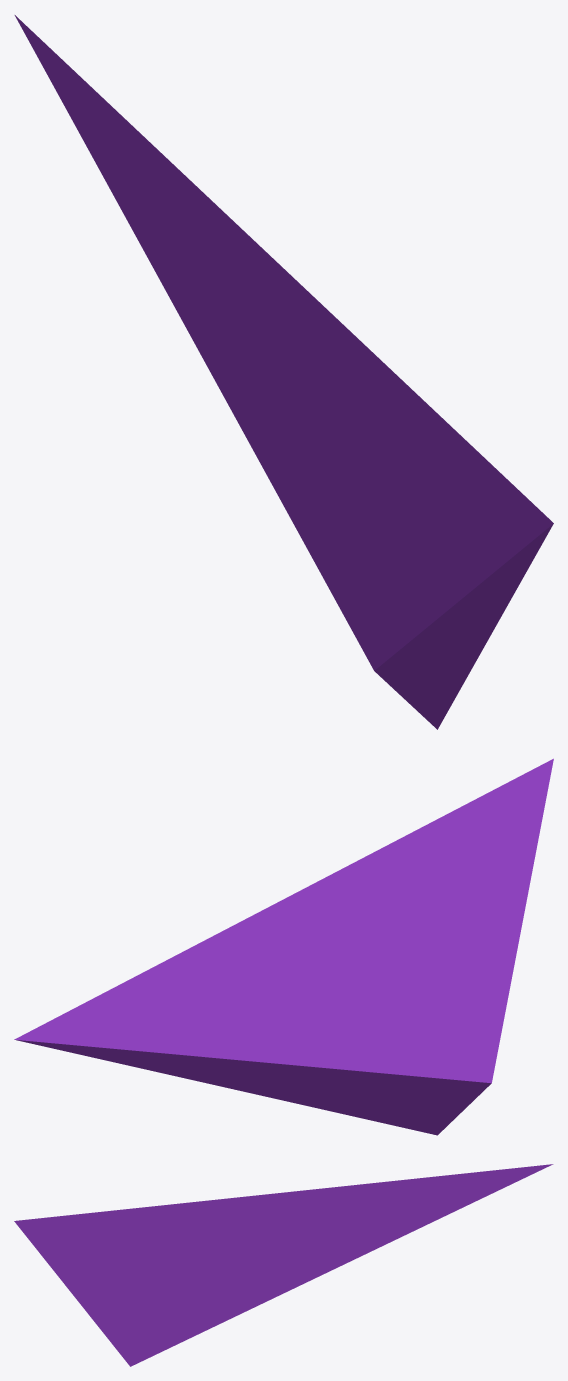
The model's file is Window_42_3_chunks.fbx.
The picture shows the model from 3 angles, top to bottom: view 1: azimuth 30°, elevation 25°; view 2: azimuth 150°, elevation 25°; view 3: azimuth 270°, elevation 25°; orthographic projection. The views are drawn at different scales.
Parts seen in each view (by area): view 1: Window_42_3_0; view 2: Window_42_3_0; view 3: Window_42_3_0.
Boxes of the visible parts, x1=… form: Window_42_3_0: x1=14, y1=15, x2=553, y2=729; Window_42_3_0: x1=14, y1=758, x2=553, y2=1135; Window_42_3_0: x1=14, y1=1164, x2=553, y2=1366.
Size of the model in its own units: 14.96 by 98.61 by 238.
